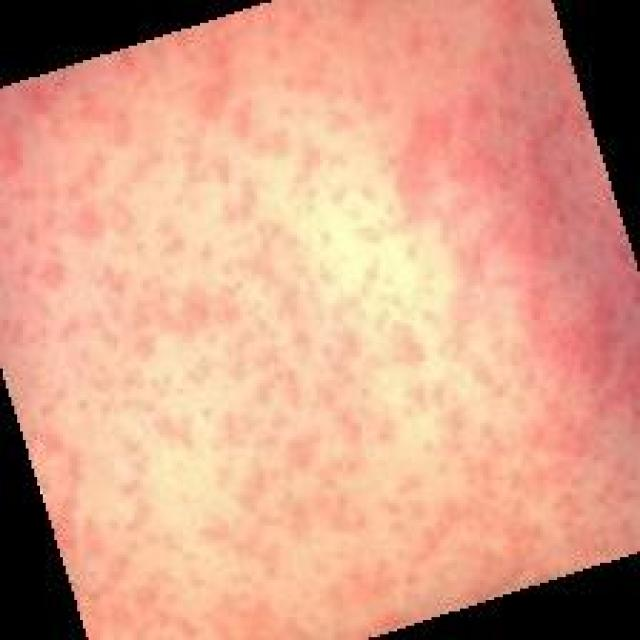others: (24, 9, 613, 619)
